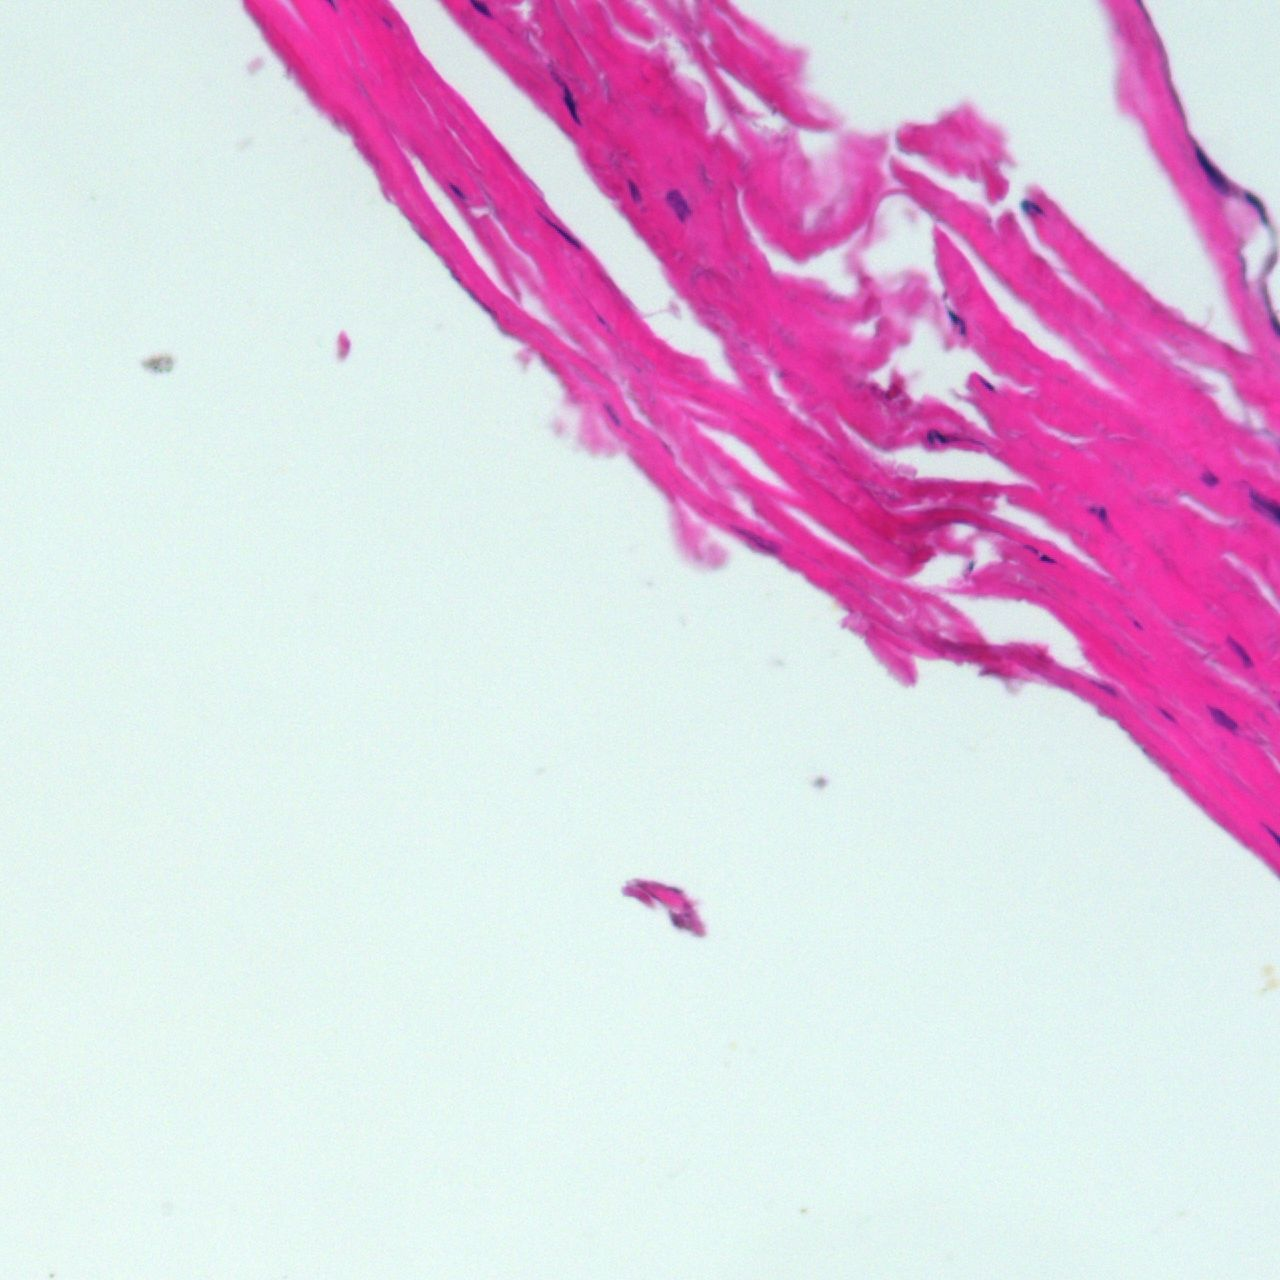dust: (139, 353, 181, 376)
nucleus-HE: (1185, 141, 1235, 200), (550, 72, 587, 128), (537, 210, 583, 251), (1201, 697, 1244, 738), (1239, 186, 1276, 230), (1219, 631, 1257, 673), (660, 184, 694, 223), (1021, 542, 1058, 568), (944, 304, 971, 339), (600, 400, 626, 431), (443, 177, 468, 203), (1087, 502, 1109, 524), (627, 176, 642, 207), (978, 374, 999, 396), (1019, 198, 1043, 216), (1198, 468, 1216, 486), (927, 429, 946, 443)
